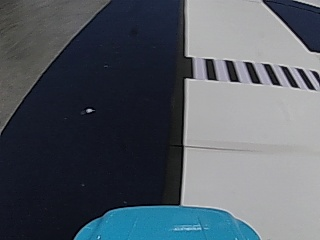CrossWalk: (187, 57, 311, 88)
